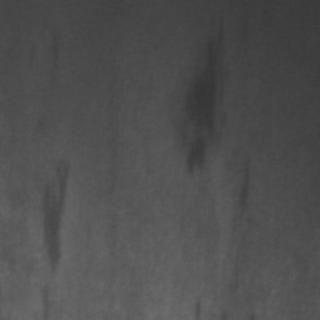inclusion: (164, 8, 232, 180), (29, 141, 75, 275), (228, 148, 260, 216), (38, 24, 62, 78)
